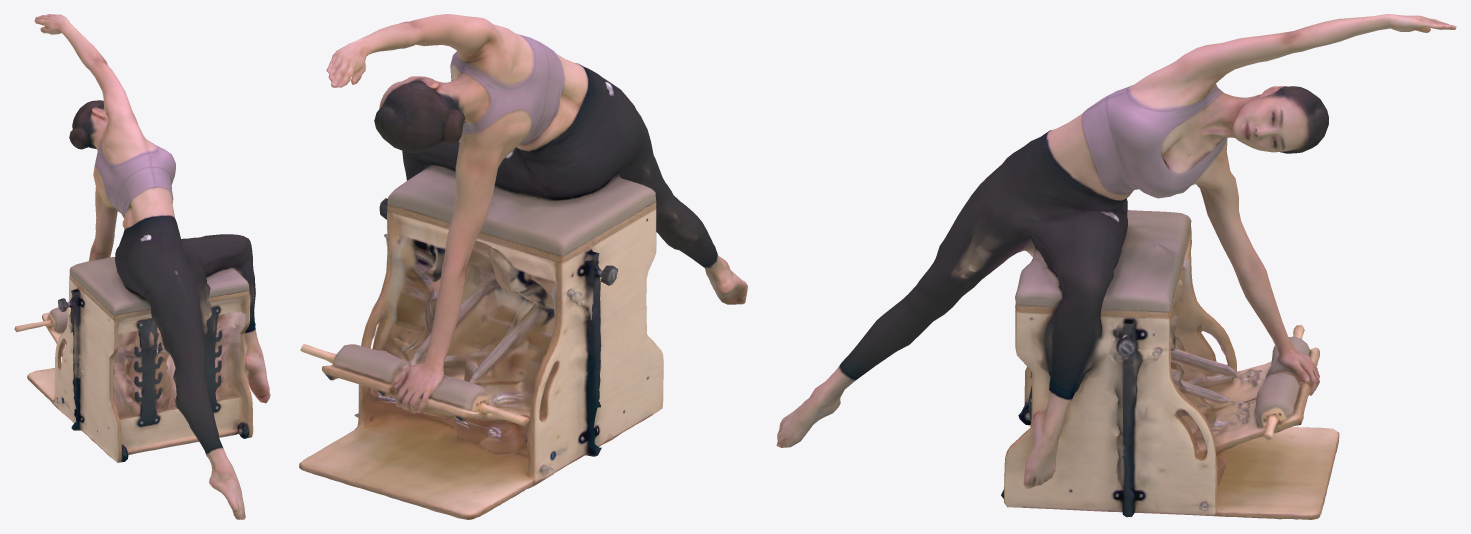
3 renders of one model, left to right at view 1: azimuth 30°, elevation 25°; view 2: azimuth 150°, elevation 25°; view 3: azimuth 270°, elevation 25°, orthographic. The views are drawn at different scales.
Parts seen in each view (by area): view 1: Frame_0255; view 2: Frame_0255; view 3: Frame_0255.
Part boxes in pixels (bbox=[...]): Frame_0255: bbox=[14, 14, 270, 519]; Frame_0255: bbox=[299, 14, 747, 519]; Frame_0255: bbox=[776, 14, 1456, 519].
Bounding box in the file's own units: 0.7254 × 1.31 × 1.76.
Materials: 1 (1 with a texture image).
